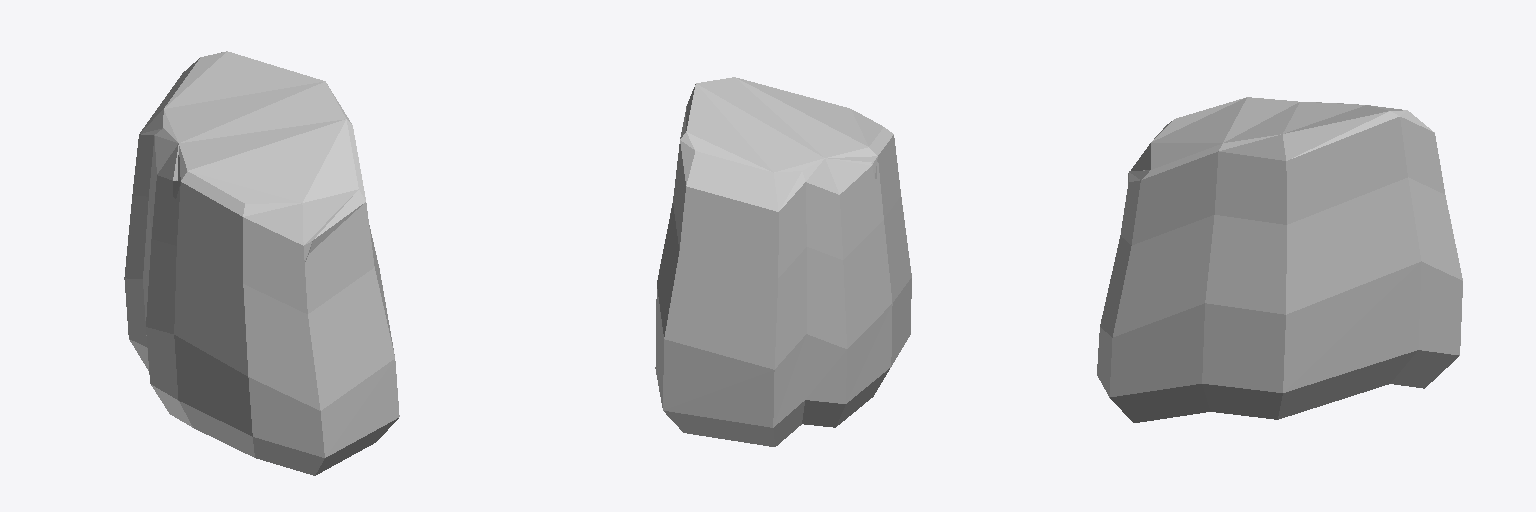
The model's file is rockhuge.obj.
3 views of the same model, side by side, from view 1: azimuth 30°, elevation 25°; view 2: azimuth 150°, elevation 25°; view 3: azimuth 270°, elevation 25° (orthographic).
Visible parts, largest first — view 1: rockhuge_Plane.002; view 2: rockhuge_Plane.002; view 3: rockhuge_Plane.002.
Part boxes in pixels (left/top/right/bottom): rockhuge_Plane.002: left=124, top=51, right=399, bottom=475; rockhuge_Plane.002: left=655, top=77, right=911, bottom=446; rockhuge_Plane.002: left=1097, top=97, right=1462, bottom=422.
Bounding box in the file's own units: 4.72 × 6.91 × 7.26.